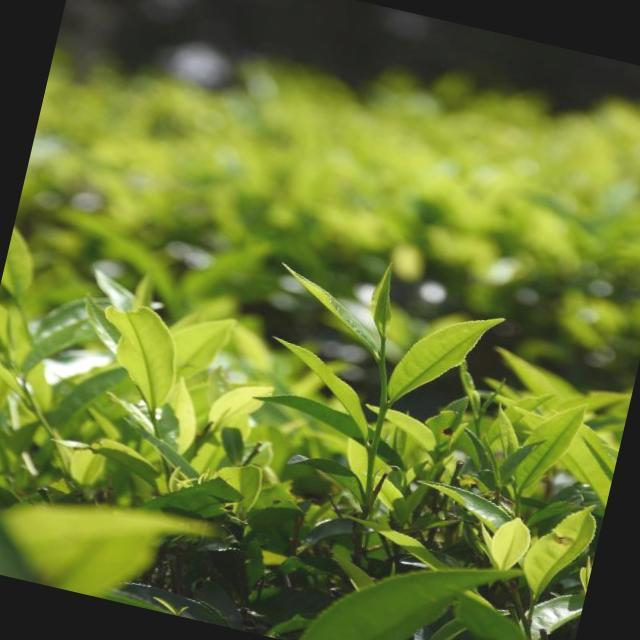Stem: (377, 357, 385, 369)
